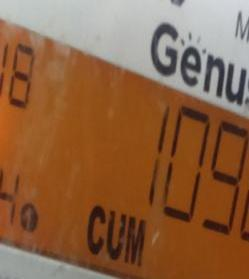1: (164, 106, 209, 228)
2: (136, 99, 176, 211)
object: (201, 116, 249, 235)
